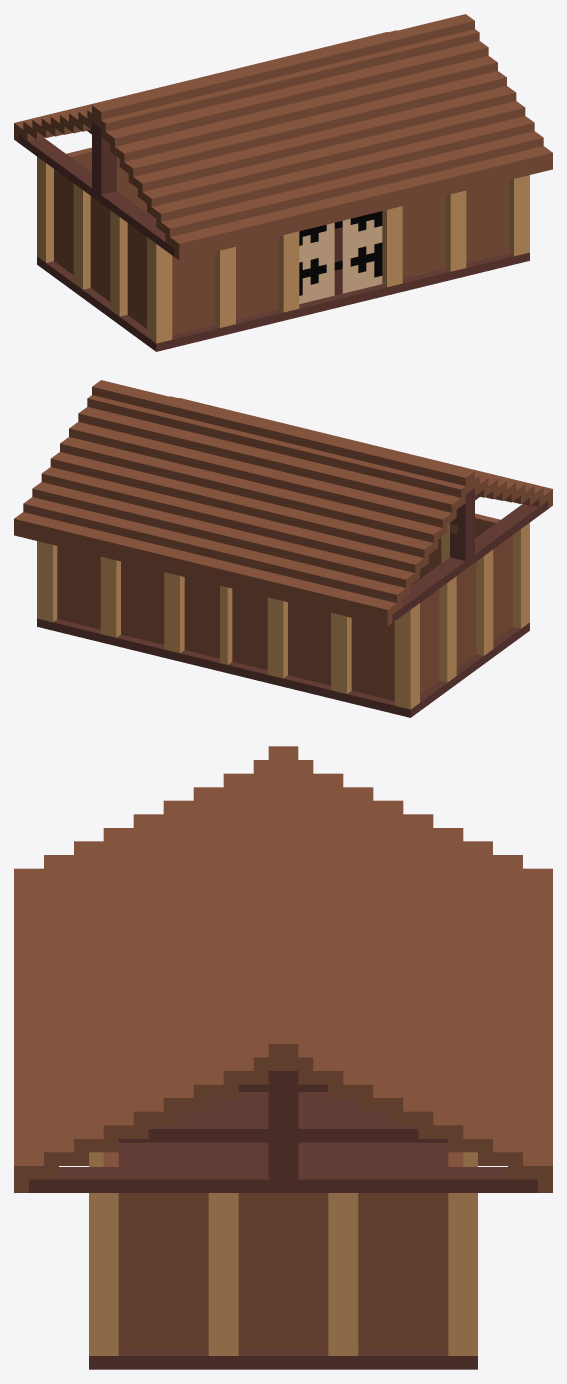
Rendered from stables_building.obj.
3 views of the same model, one above another, from view 1: azimuth 30°, elevation 25°; view 2: azimuth 150°, elevation 25°; view 3: azimuth 270°, elevation 25° (orthographic). The views are drawn at different scales.
Bounding box in the file's own units: 4.7 × 2.4 × 3.6.
Materials: 1 (1 with a texture image).
